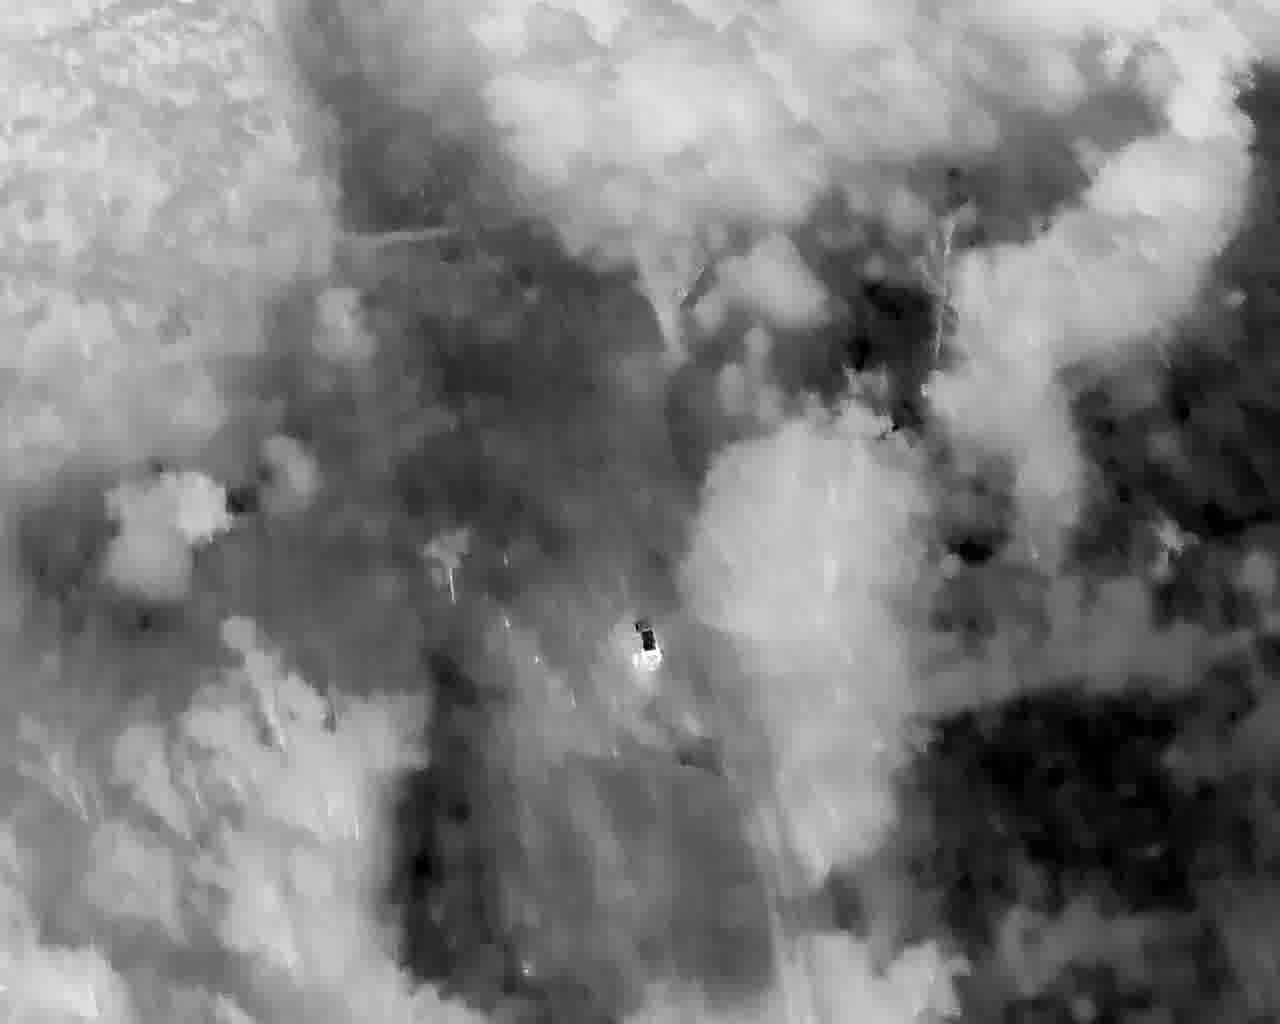car: (1007, 759, 1065, 851), (1028, 626, 1065, 739)
person: (1032, 574, 1058, 592), (1033, 590, 1057, 610)
